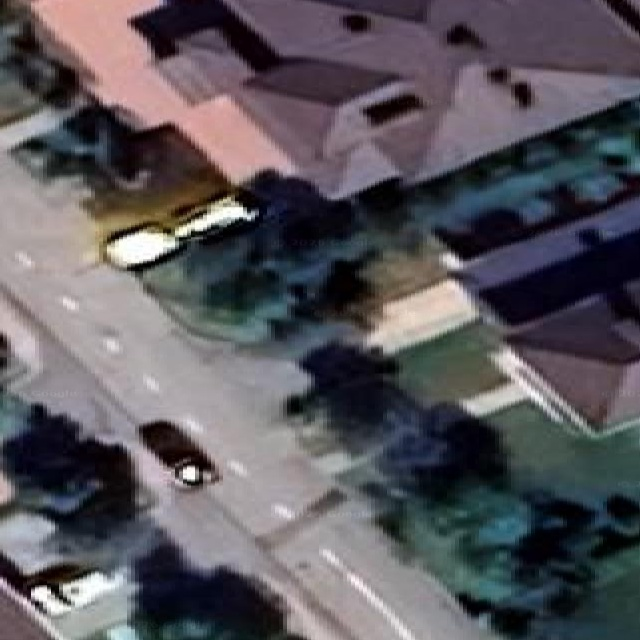car: (100, 192, 259, 271), (139, 420, 220, 487), (24, 564, 124, 616), (173, 193, 258, 239), (104, 223, 179, 270), (60, 569, 124, 607), (28, 584, 71, 615), (172, 460, 212, 487), (0, 331, 11, 371)
